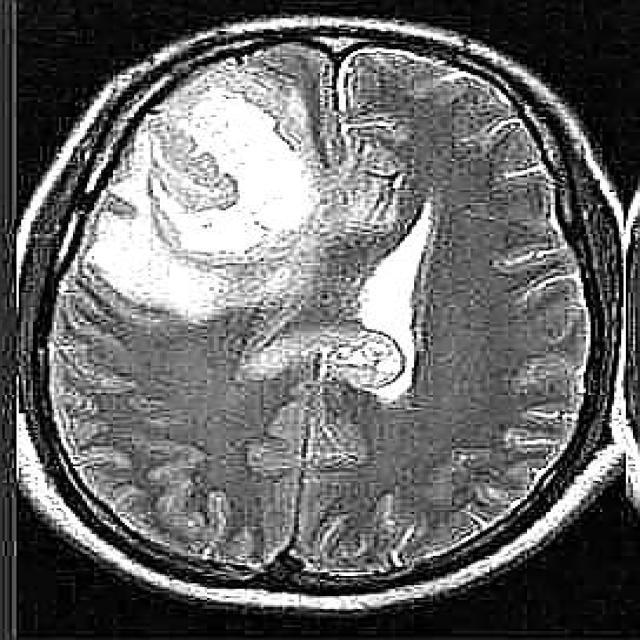brain tumor: (80, 77, 320, 318)
